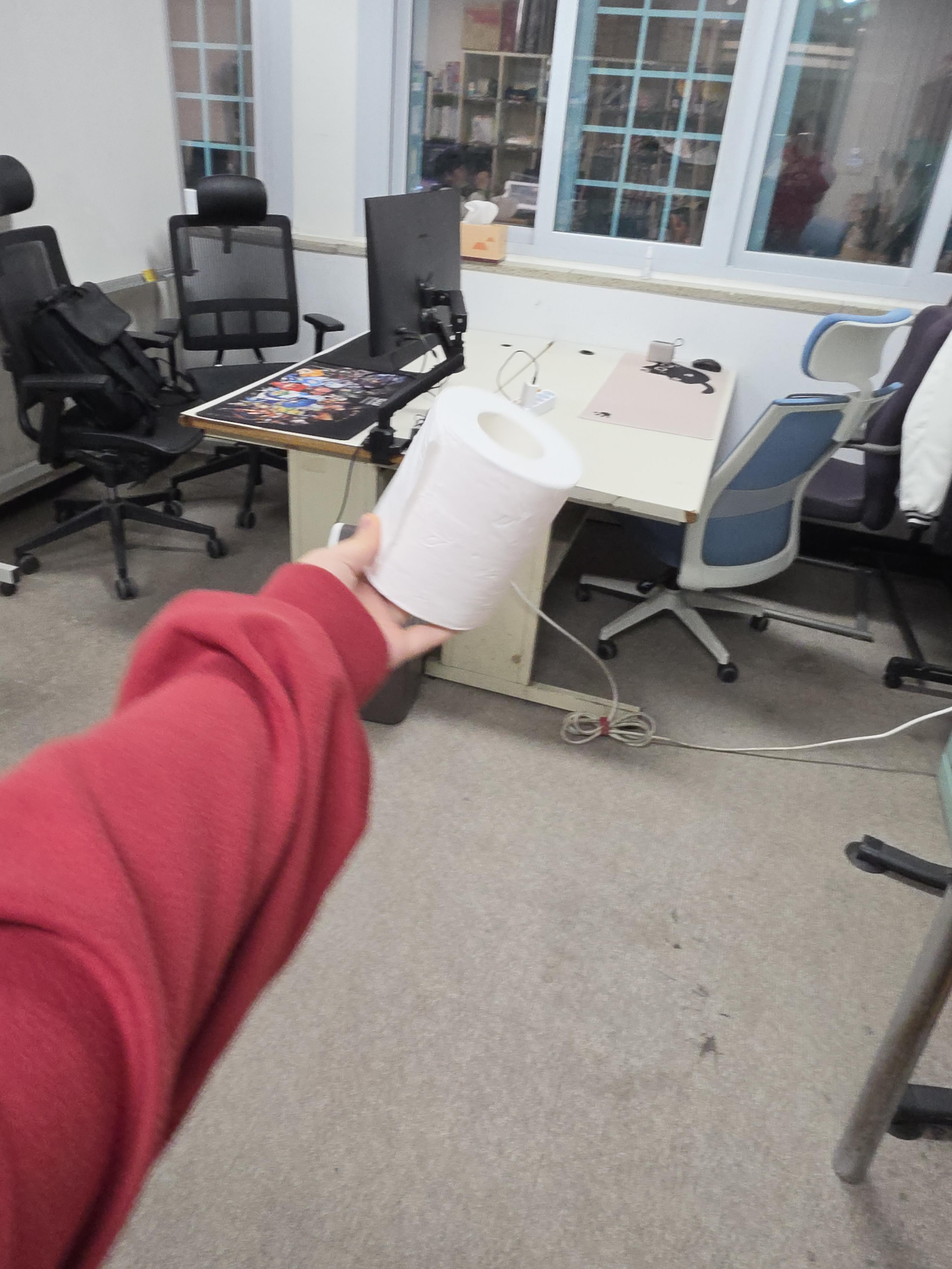tissue: (364, 385, 584, 632), (460, 200, 508, 263)
